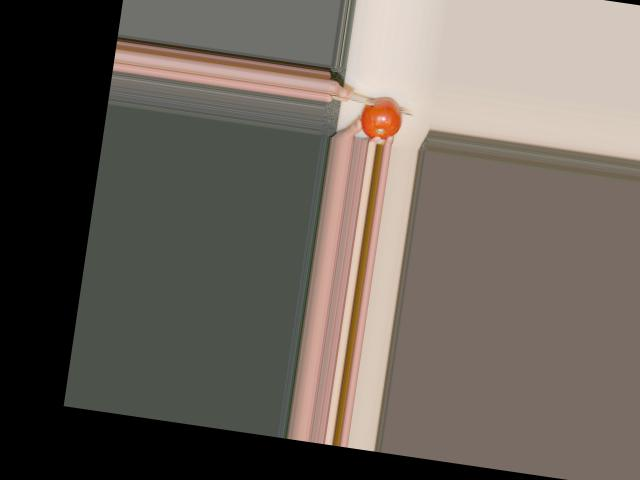tomato: (358, 94, 405, 142)
